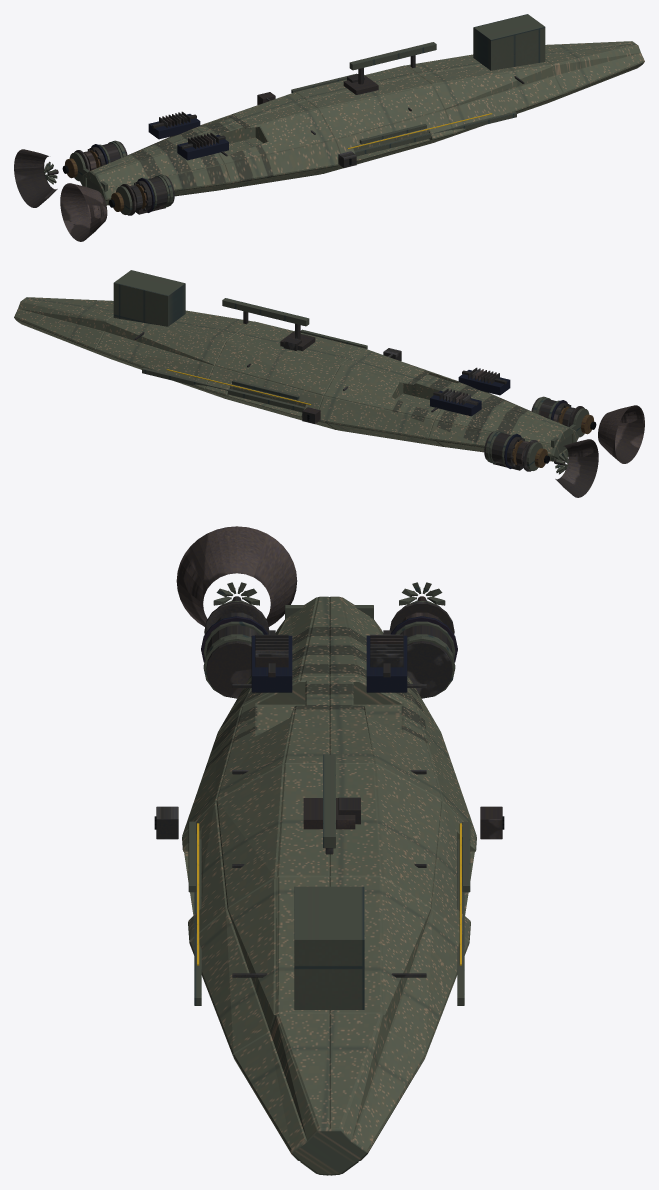
The model's file is repair_tender_production_v1_lod1.glb.
3 renders of one model, top to bottom at view 1: azimuth 30°, elevation 25°; view 2: azimuth 150°, elevation 25°; view 3: azimuth 270°, elevation 25°, orthographic. The views are drawn at different scales.
Parts seen in each view (by area): view 1: LOD1_Hull, LOD1_Mechanical, LOD1_Armor, LOD1_Radiator, LOD1_Ceramic; view 2: LOD1_Hull, LOD1_Mechanical, LOD1_Armor, LOD1_Radiator, LOD1_Ceramic; view 3: LOD1_Hull, LOD1_Mechanical, LOD1_Armor, LOD1_Radiator.
Boxes of the visible parts, bbox=[...] form: LOD1_Hull: bbox=[80, 41, 644, 205]; LOD1_Mechanical: bbox=[14, 55, 524, 241]; LOD1_Armor: bbox=[43, 14, 545, 214]; LOD1_Radiator: bbox=[91, 114, 228, 212]; LOD1_Ceramic: bbox=[64, 150, 146, 211]; LOD1_Hull: bbox=[14, 297, 578, 461]; LOD1_Mechanical: bbox=[134, 311, 644, 497]; LOD1_Armor: bbox=[113, 270, 589, 474]; LOD1_Radiator: bbox=[430, 370, 567, 468]; LOD1_Ceramic: bbox=[512, 406, 594, 467]; LOD1_Hull: bbox=[182, 596, 476, 1175]; LOD1_Mechanical: bbox=[156, 526, 502, 977]; LOD1_Armor: bbox=[188, 582, 470, 1009]; LOD1_Radiator: bbox=[201, 616, 457, 692].
Size of what is drawn, in the model's own units: 14.56 by 2.18 by 3.78.
Materials: 9 (9 with a texture image).
